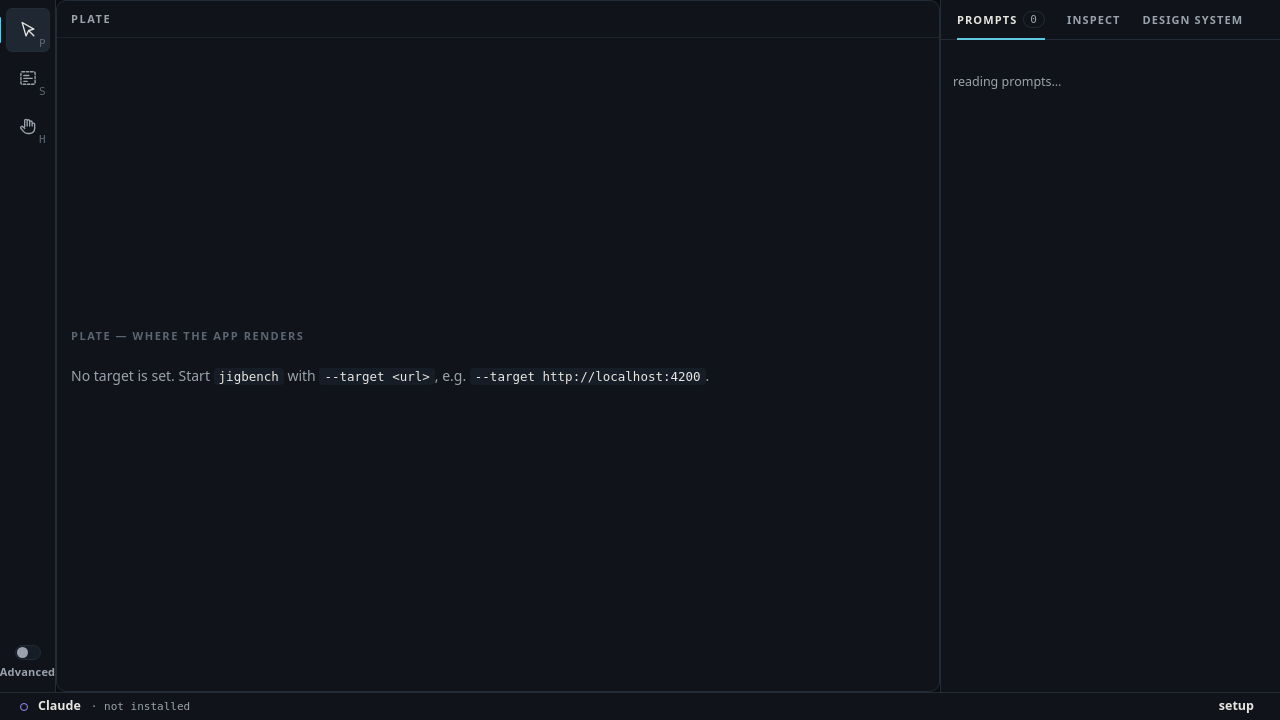
Test: App (S12: the quiet bench) › #68: Ctrl+K, "sketch button", Enter arms the primitive and puts the rail on Sketch
Press k
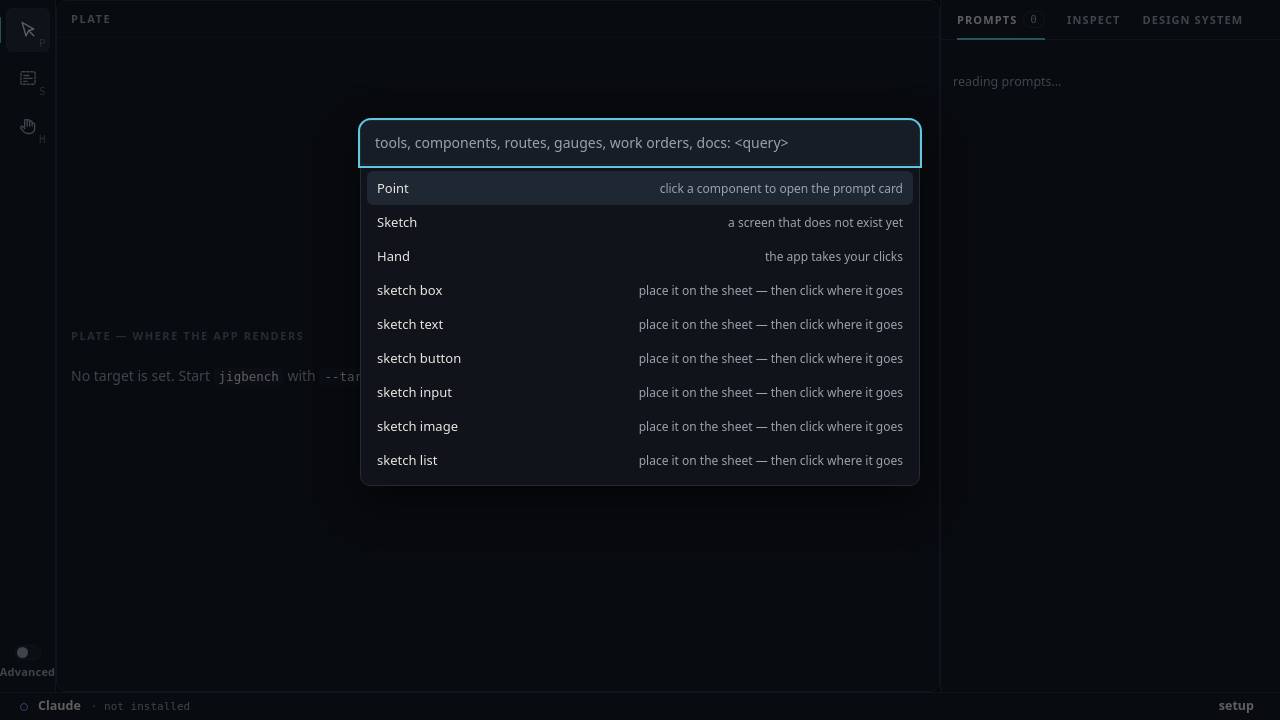
Now the text "sketch button" is shown, box [377, 349, 461, 367]
Replace the text in the dropdown with "sketch button" at (640, 143), box [361, 121, 919, 165]
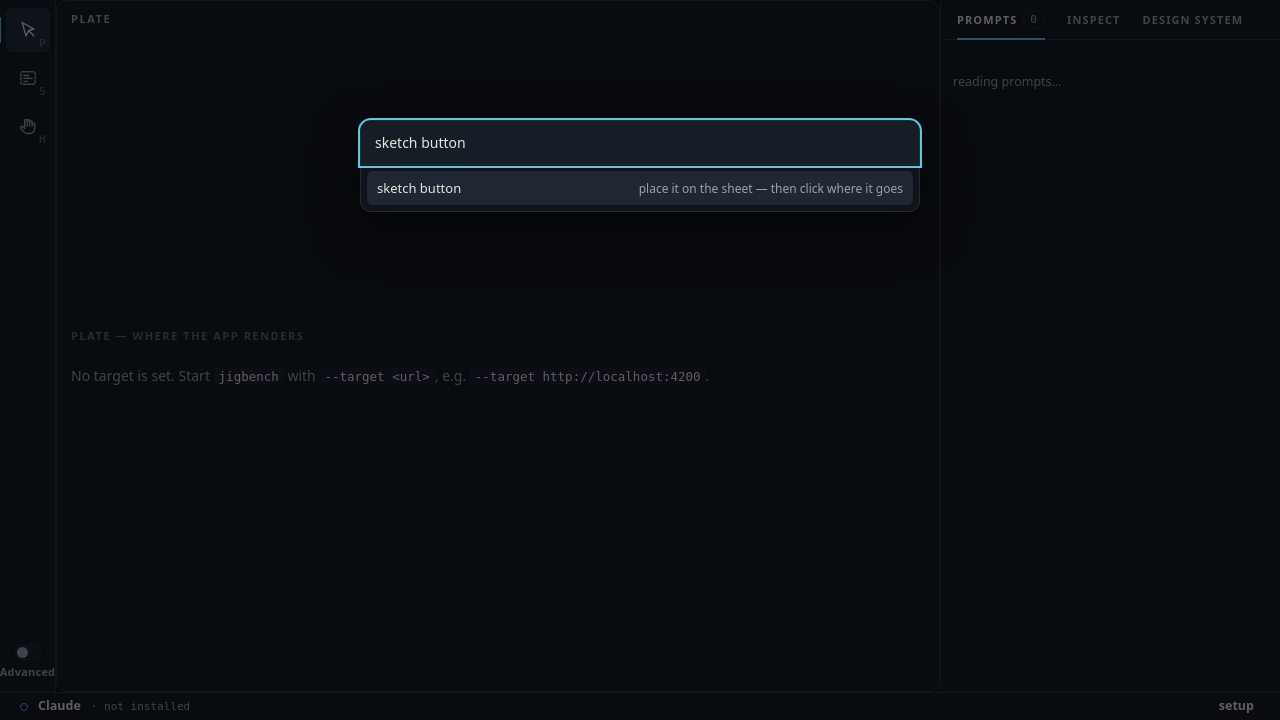
Press Enter in the dropdown, box [361, 121, 919, 165]
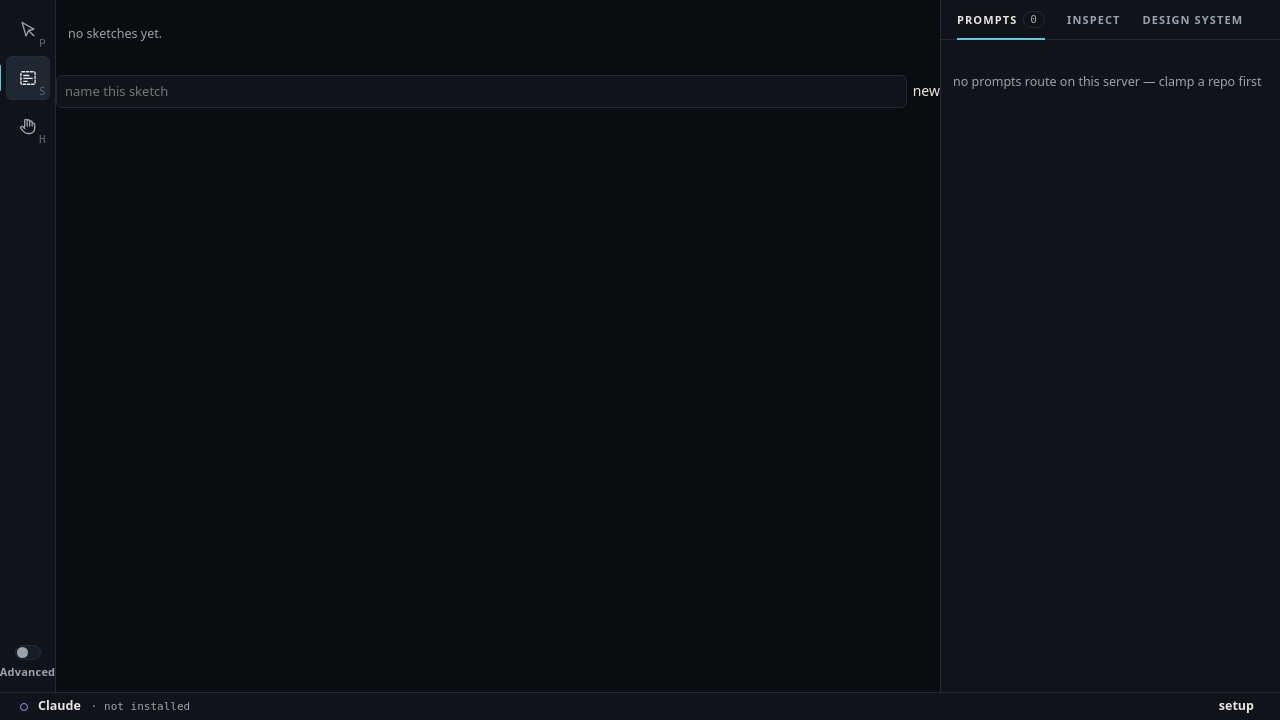
Now the text "no sketches yet." is shown, box [68, 24, 162, 42]
